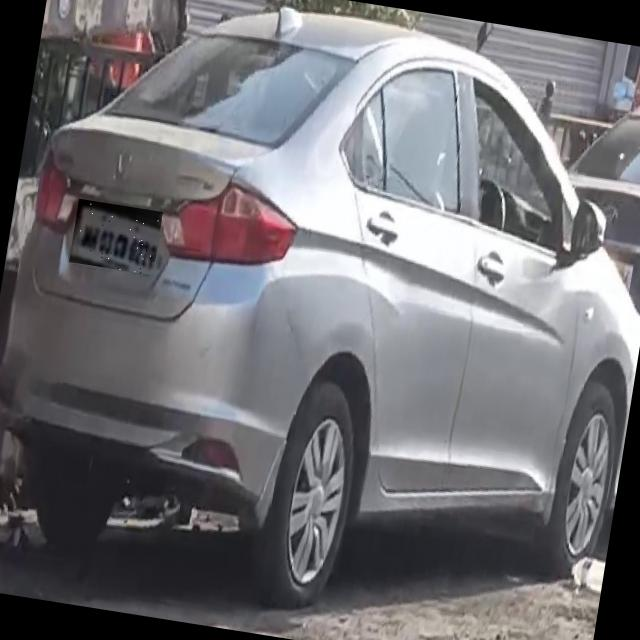Plate: (70, 200, 164, 276)
